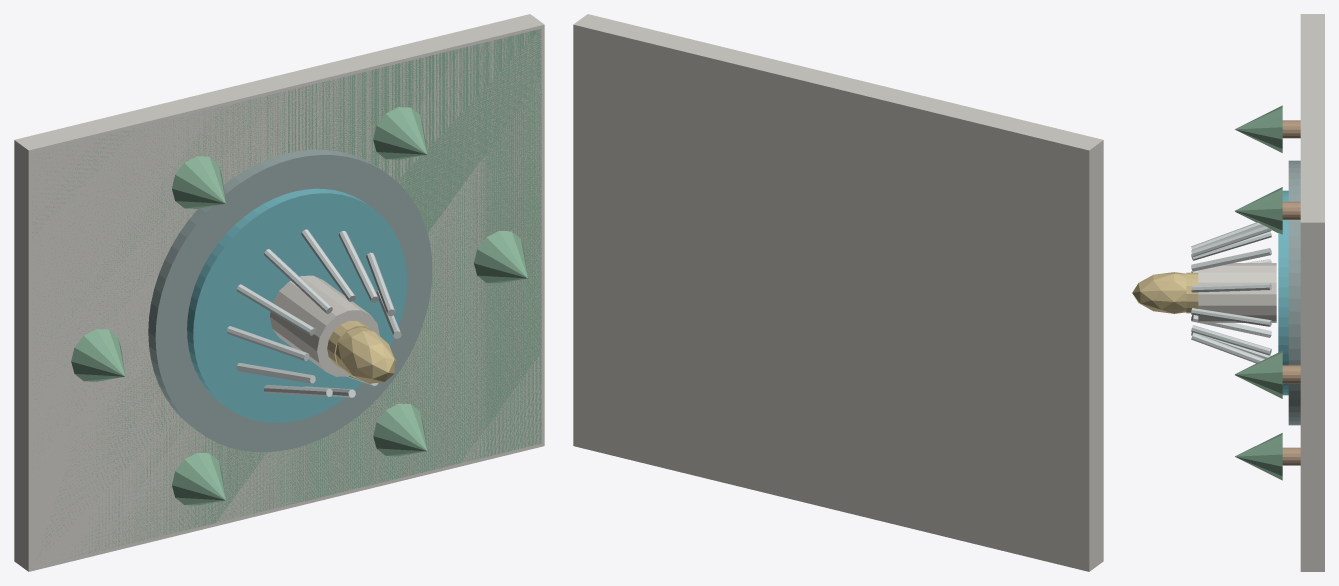
Rendered from chiayi_fountain.glb.
3 views of the same model, side by side, from view 1: azimuth 30°, elevation 25°; view 2: azimuth 150°, elevation 25°; view 3: azimuth 270°, elevation 25° (orthographic). The views are drawn at different scales.
Visible parts, largest first — view 1: g0, g1, g3, g2, g4, g6, g22, g28, g26, g30, g20, g24 (+6 smaller); view 2: g0; view 3: g0, g4, g2, g6, g3, g20, g22, g24, g30, g18, g9, g10 (+11 smaller).
Part boxes in pixels (<box>): g0: <box>14,14,544,571</box>; g1: <box>32,28,541,558</box>; g3: <box>187,188,406,422</box>; g2: <box>148,149,432,452</box>; g4: <box>270,275,379,376</box>; g6: <box>335,327,394,383</box>; g22: <box>373,107,427,159</box>; g28: <box>172,452,225,505</box>; g26: <box>71,329,125,381</box>; g30: <box>373,403,427,456</box>; g20: <box>474,231,527,283</box>; g24: <box>172,156,225,208</box>; g0: <box>573,14,1103,571</box>; g0: <box>1300,14,1324,571</box>; g4: <box>1198,263,1276,322</box>; g2: <box>1288,160,1300,425</box>; g6: <box>1132,272,1186,313</box>; g3: <box>1278,190,1288,395</box>; g20: <box>1235,350,1282,398</box>; g22: <box>1235,187,1282,234</box>; g24: <box>1235,105,1282,152</box>; g30: <box>1235,433,1282,480</box>; g18: <box>1191,325,1271,355</box>; g9: <box>1191,248,1271,271</box>; g10: <box>1191,226,1271,256</box>.
Bounding box in the file's own units: 82 × 64 × 32.
